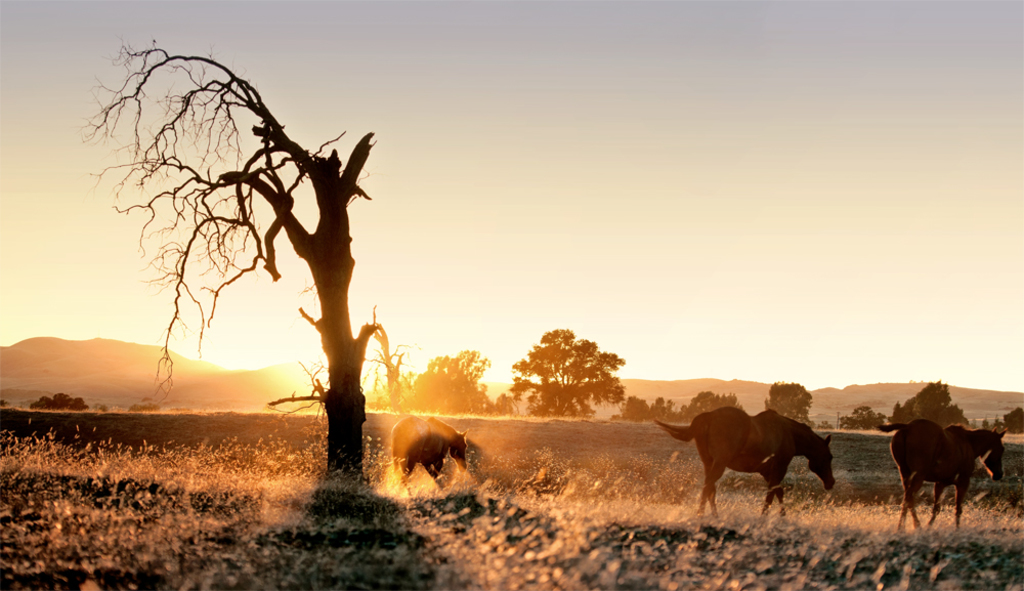horse: (873, 417, 1006, 529), (386, 411, 470, 493)
